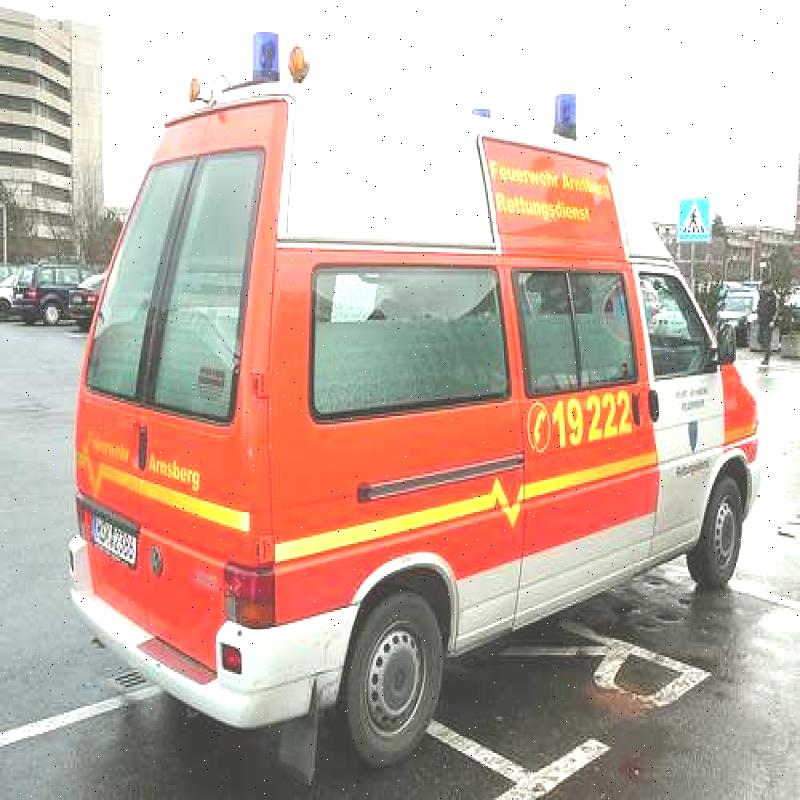AmbulanceSiren: (243, 20, 295, 89), (555, 89, 579, 167)
